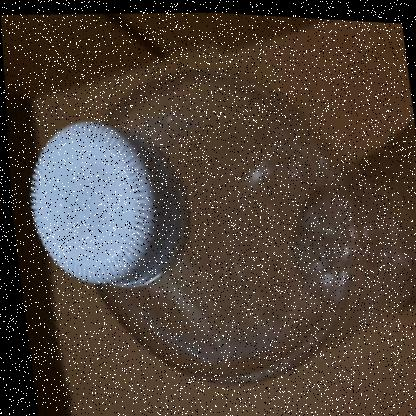bottle cap: (3, 34, 358, 406)
